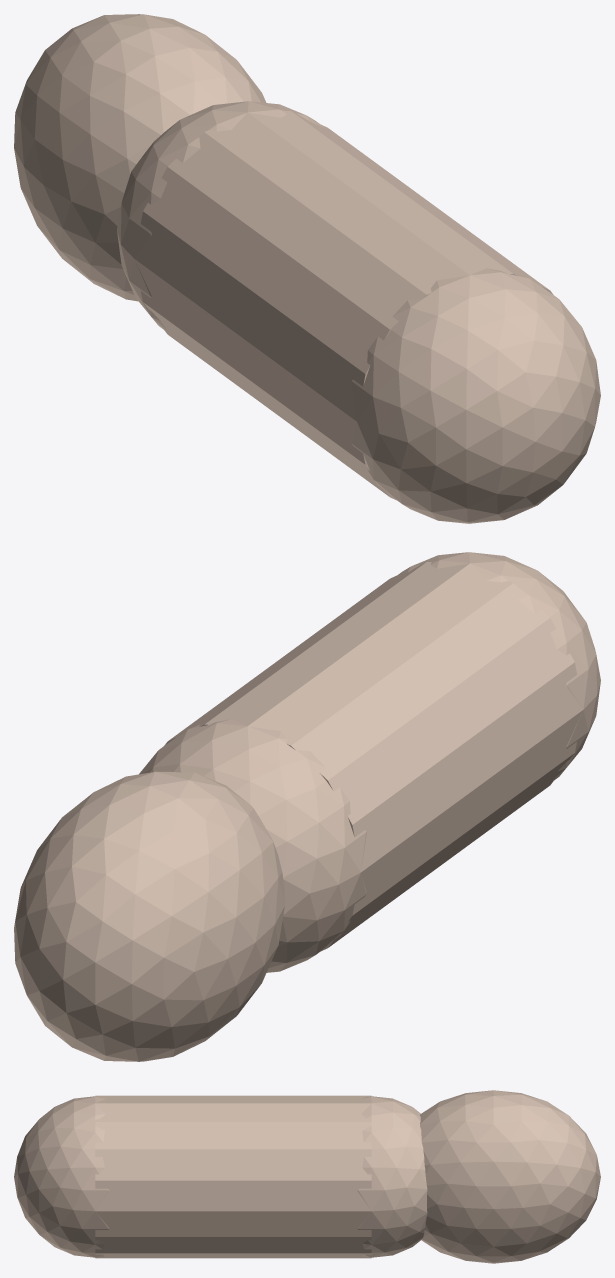
Rendered from windman_left_lower_arm.glb.
The picture shows the model from 3 angles, top to bottom: view 1: azimuth 30°, elevation 25°; view 2: azimuth 150°, elevation 25°; view 3: azimuth 270°, elevation 25°; orthographic projection. The views are drawn at different scales.
Visible parts, largest first — view 1: world; view 2: world; view 3: world.
Boxes of the visible parts, <box> form: world: <box>14,14,600,523</box>; world: <box>14,552,600,1061</box>; world: <box>14,1090,600,1263</box>.
Size of the model in its own units: 0.1 by 0.11 by 0.361.
